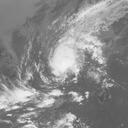cyclone: (51, 44, 80, 75)
